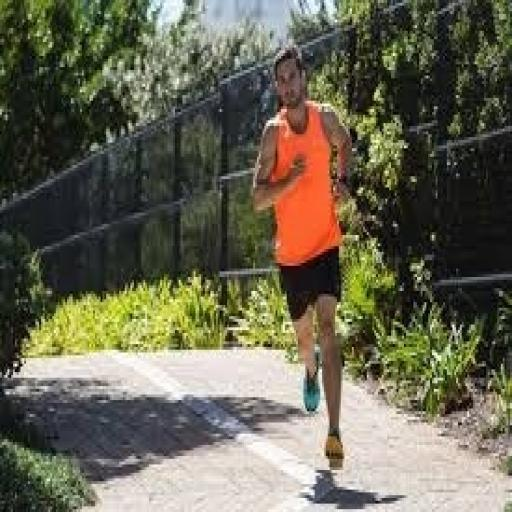running: (250, 42, 356, 464)
